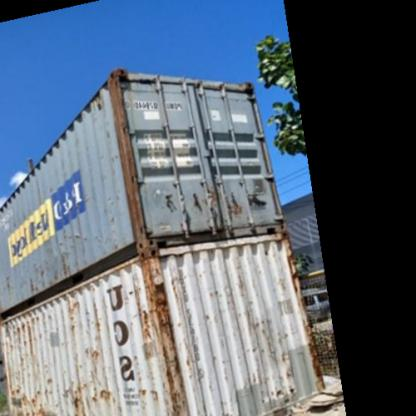Damage: (247, 312, 298, 380), (148, 269, 184, 354), (60, 378, 124, 415), (20, 256, 81, 291), (3, 317, 50, 356), (3, 384, 55, 415), (163, 362, 195, 412), (130, 285, 149, 341), (61, 297, 80, 340), (224, 192, 248, 222), (90, 298, 107, 339), (82, 343, 102, 376), (132, 382, 158, 405), (273, 385, 300, 403), (232, 266, 246, 296), (65, 226, 88, 244), (275, 274, 290, 297), (0, 268, 11, 294), (104, 212, 119, 228), (104, 149, 118, 164), (108, 241, 122, 252), (259, 246, 273, 256), (204, 288, 219, 297), (198, 310, 212, 319), (205, 353, 218, 361), (44, 374, 56, 382), (104, 130, 111, 140)
